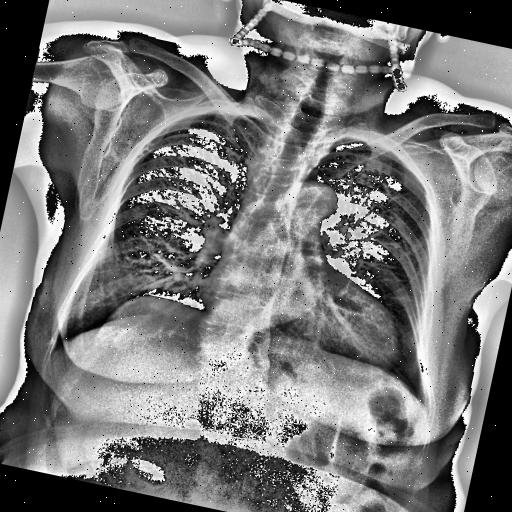0- Aortic enlargement: (278, 174, 340, 240), (274, 173, 342, 233), (294, 179, 340, 219)
11- Pleural thickening: (204, 103, 252, 122), (344, 135, 392, 152)
13- Pulmonary fibrosis: (138, 144, 173, 166)
3- Cardiomegaly: (184, 260, 408, 370), (194, 266, 408, 370), (193, 264, 407, 368)
9- Other lesion: (52, 268, 210, 376), (81, 282, 192, 350)
